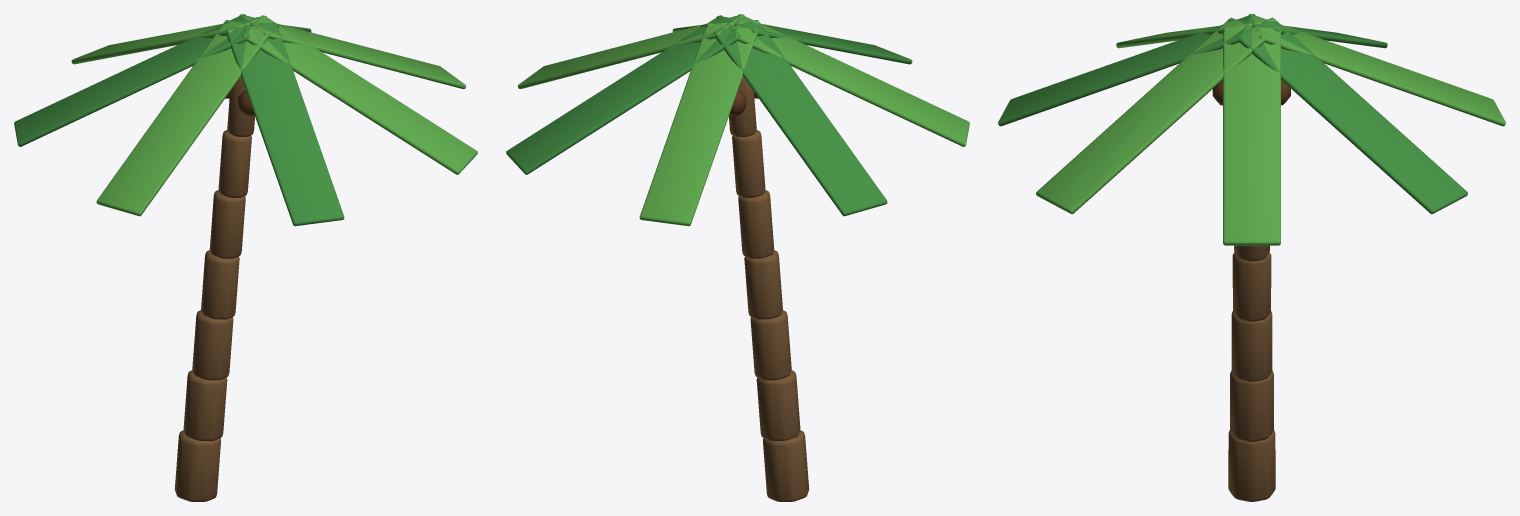
Rendered from palm.glb.
The picture shows the model from 3 angles, left to right: view 1: azimuth 30°, elevation 25°; view 2: azimuth 150°, elevation 25°; view 3: azimuth 270°, elevation 25°; orthographic projection. The views are drawn at different scales.
Parts seen in each view (by area): view 1: palm; view 2: palm; view 3: palm.
Boxes of the visible parts, <box> form: palm: <box>14,14,477,501</box>; palm: <box>506,14,969,501</box>; palm: <box>998,14,1505,501</box>.
Bounding box in the file's own units: 4.25 × 4.71 × 4.36.
